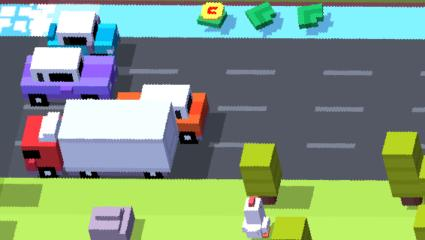hen: (241, 195, 271, 240)
obstacle: (21, 97, 178, 178), (117, 84, 211, 144), (20, 47, 119, 101), (48, 11, 123, 56), (382, 130, 425, 206), (240, 143, 283, 203), (86, 208, 136, 240), (271, 215, 311, 240), (414, 204, 425, 240)
timber: (196, 1, 228, 30), (245, 2, 275, 29), (296, 4, 323, 30)
